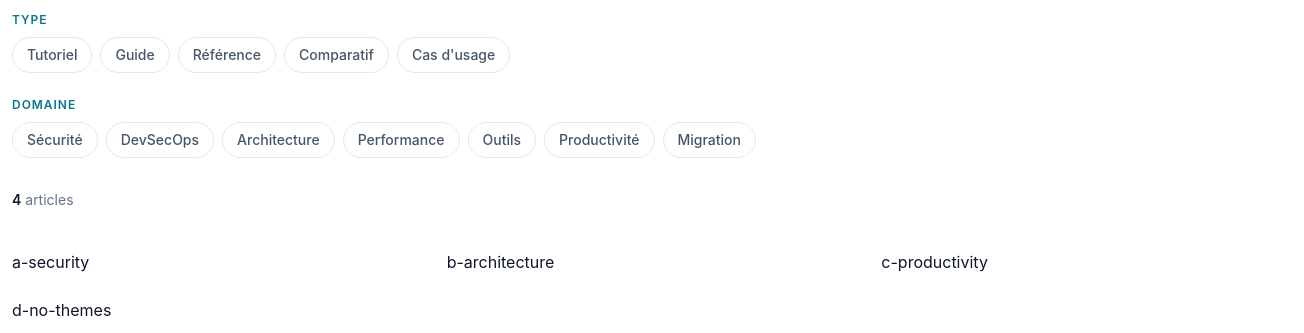
ArticleThemeFilter › excludes articles without themes when any filter is active
Click the button "Tutoriel". click: (52, 55)
box: [12,37,92,73]
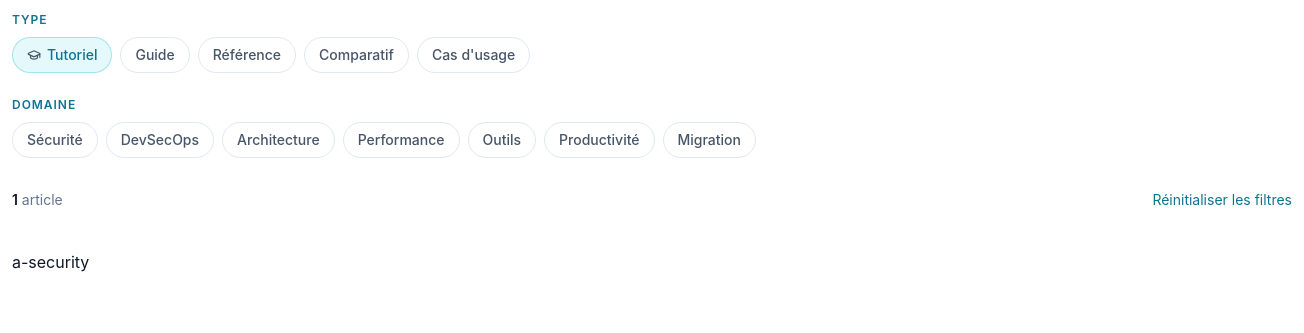
Expected: the text "d-no-themes" is gone
